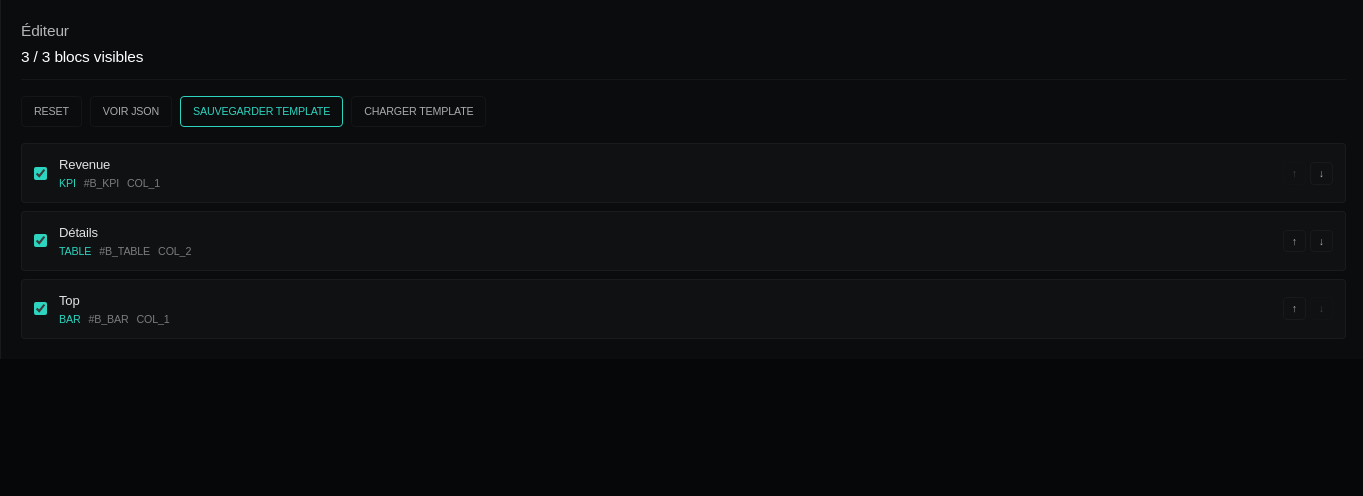
Test case: ReportEditor — load template › ferme la liste au clic 'Fermer'
What coordinates should you click on to do the following:
click the button with test id "report-editor-load-template"
I would click on:
 (419, 112)
Its box is [351,96,486,127].
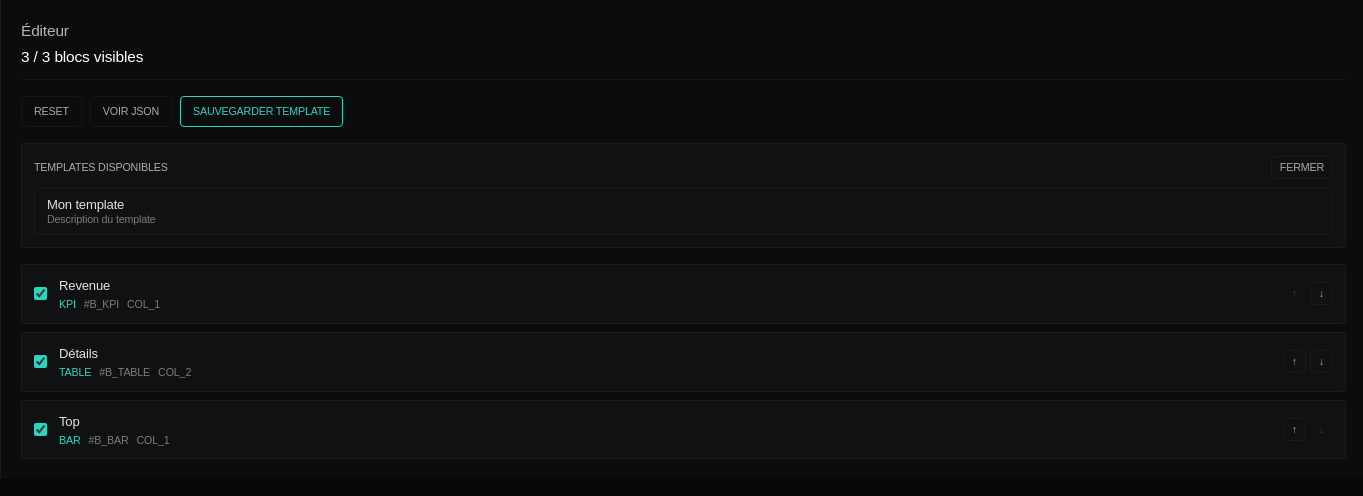
expect the element with test id "report-editor-load-list" is shown: met, box [21,143,1346,248]
What coordinates should you click on to do the following:
click the button with test id "report-editor-load-cancel"
I would click on:
 (1302, 168)
Its box is [1271,156,1333,179].
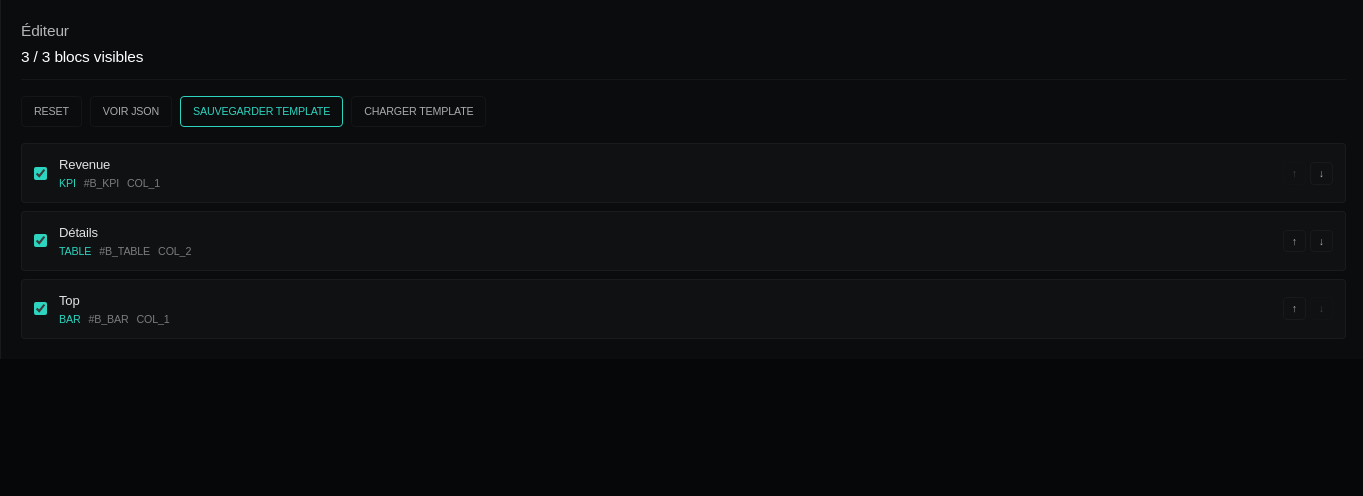
expect the element with test id "report-editor-load-list" is gone: met
